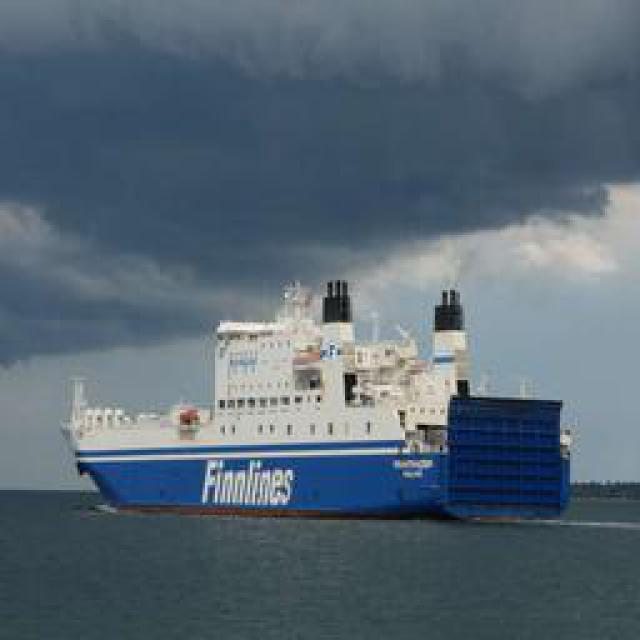Ship: (78, 274, 536, 514)
